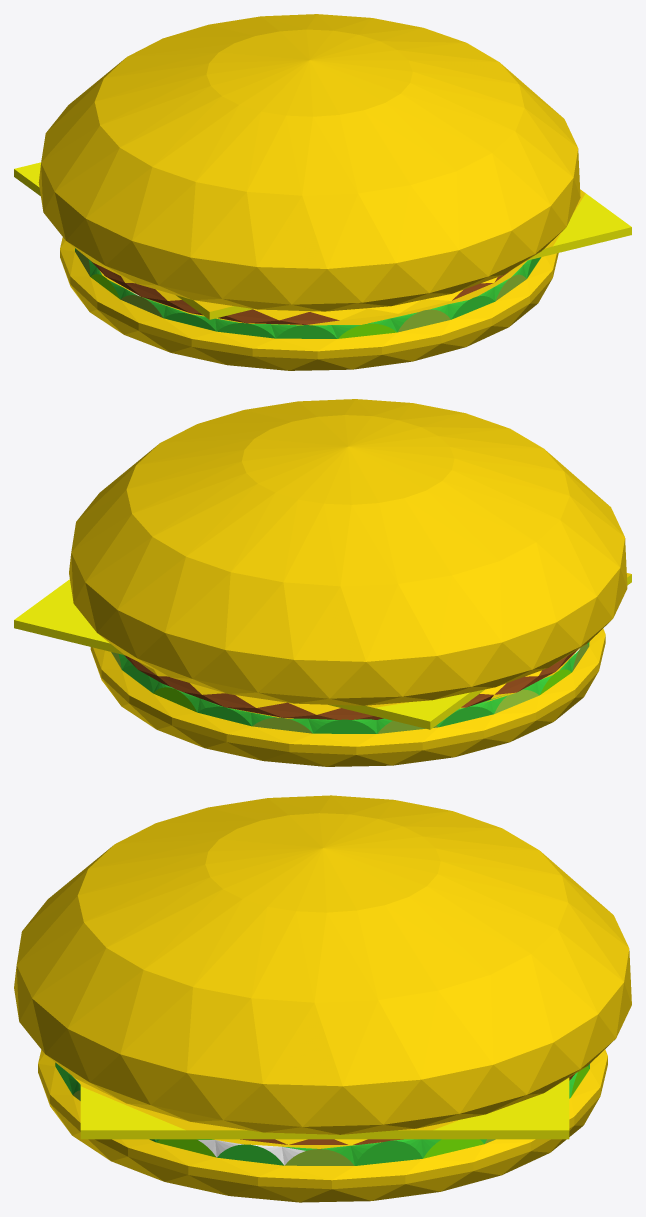
Rendered from burger.fbx.
The picture shows the model from 3 angles, top to bottom: view 1: azimuth 30°, elevation 25°; view 2: azimuth 150°, elevation 25°; view 3: azimuth 270°, elevation 25°; orthographic projection. The views are drawn at different scales.
Visible parts, largest first — view 1: Model; view 2: Model; view 3: Model.
Boxes of the visible parts, box(x1,y1,x2,y2) form: Model: box(14, 14, 631, 370); Model: box(14, 399, 631, 766); Model: box(14, 795, 631, 1202).
Size of the model in its own units: 124 by 52.5 by 124.
